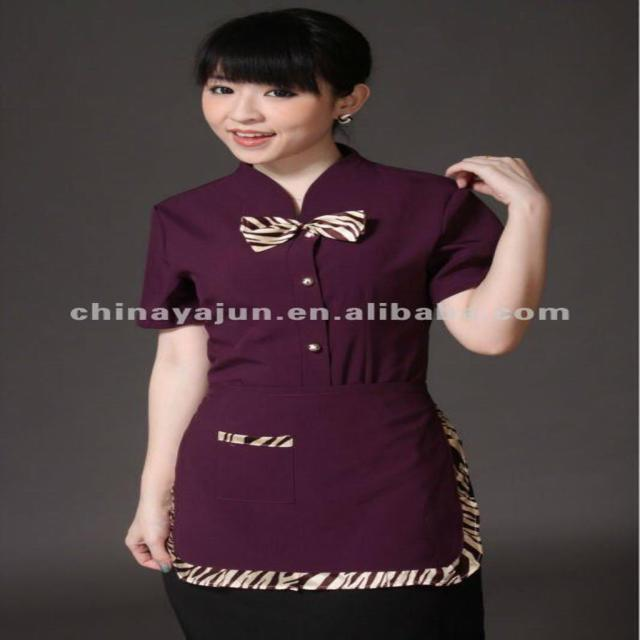nomask: (200, 48, 335, 164)
